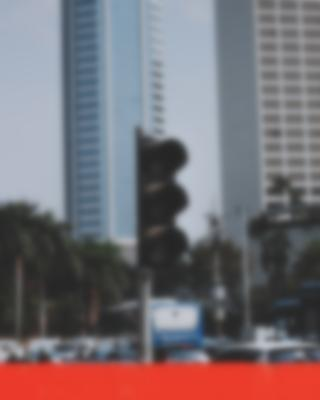International Road Signal Light: (139, 128, 191, 280)
